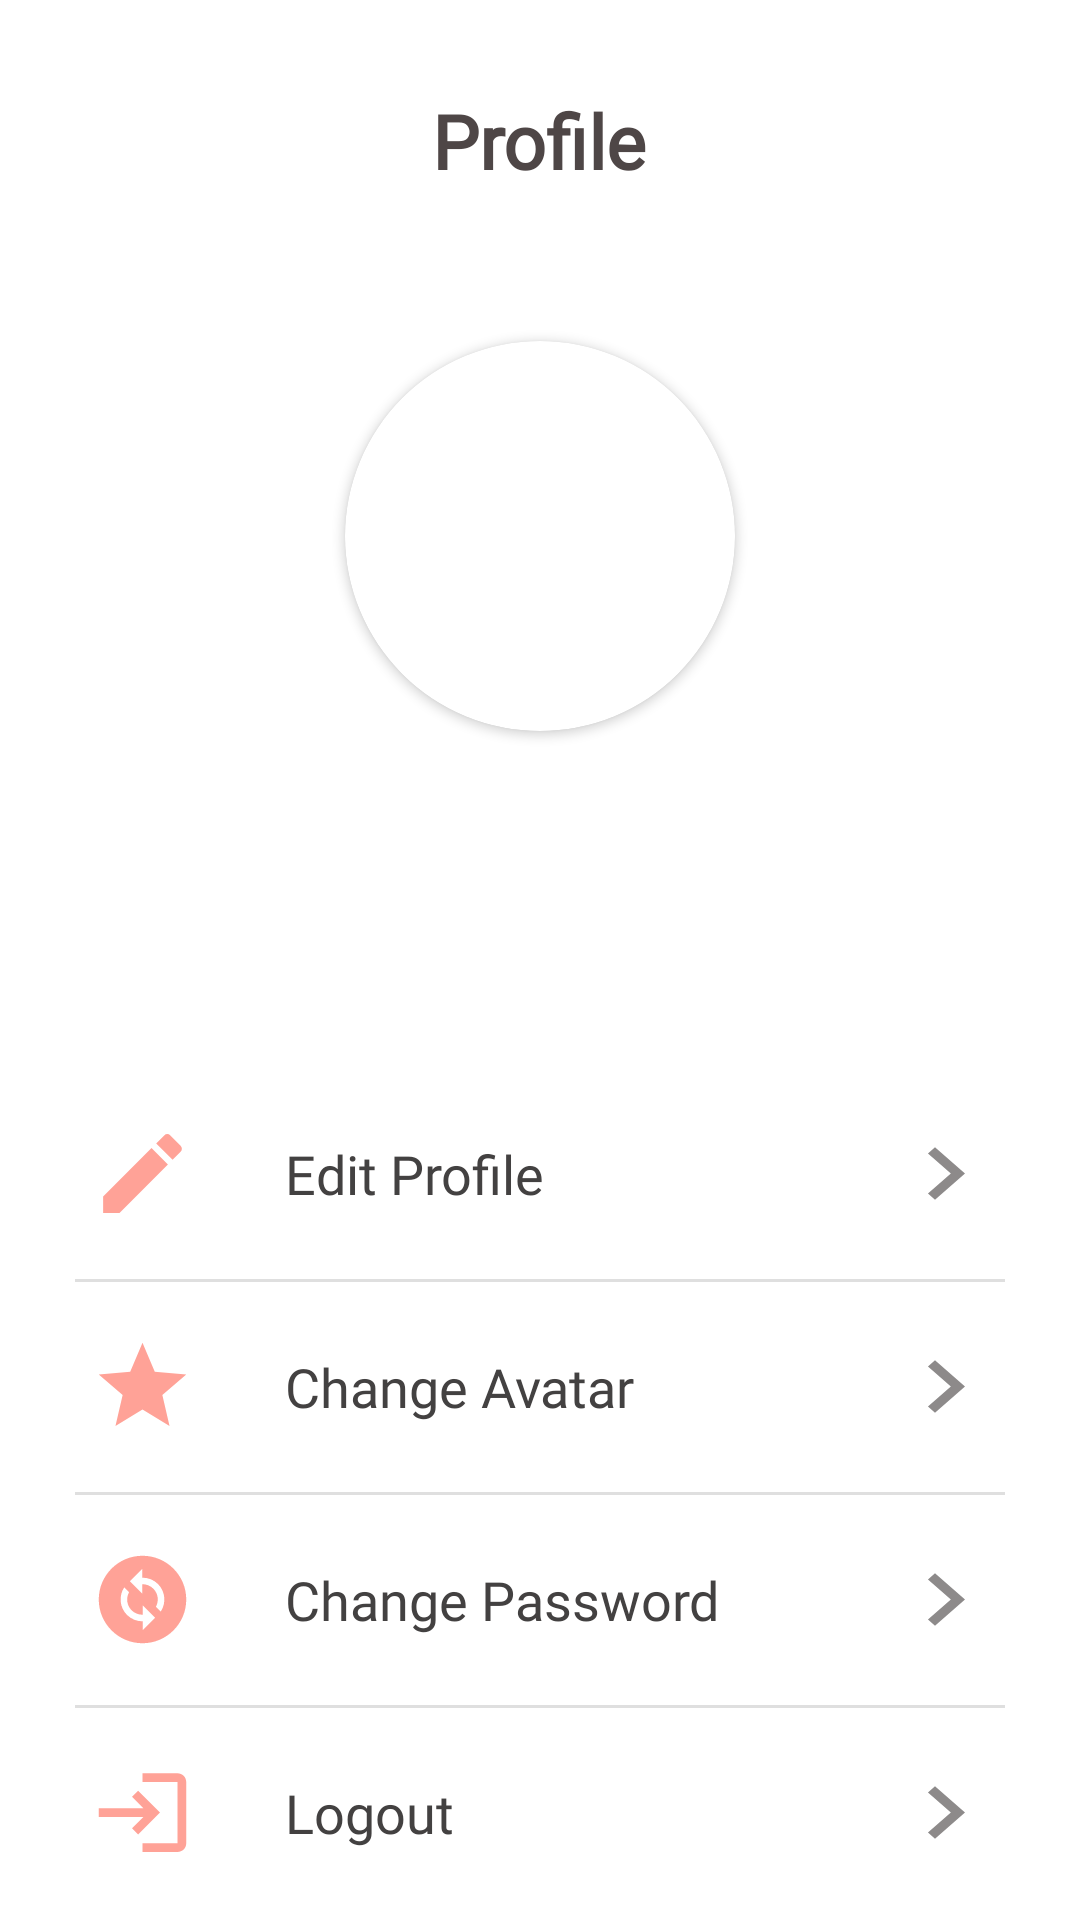

Locate icon controls on the screen. Image size 1080 × 1920, boxes as [x1=x1, y1=y1, x2=x2, y2=y2].
change circle: [x1=98, y1=1555, x2=187, y2=1644]
chevron right: [x1=928, y1=1147, x2=965, y2=1200], [x1=928, y1=1360, x2=965, y2=1413], [x1=928, y1=1573, x2=965, y2=1626], [x1=928, y1=1786, x2=965, y2=1839]
login: [x1=98, y1=1773, x2=187, y2=1852]
star: [x1=99, y1=1343, x2=186, y2=1426]
